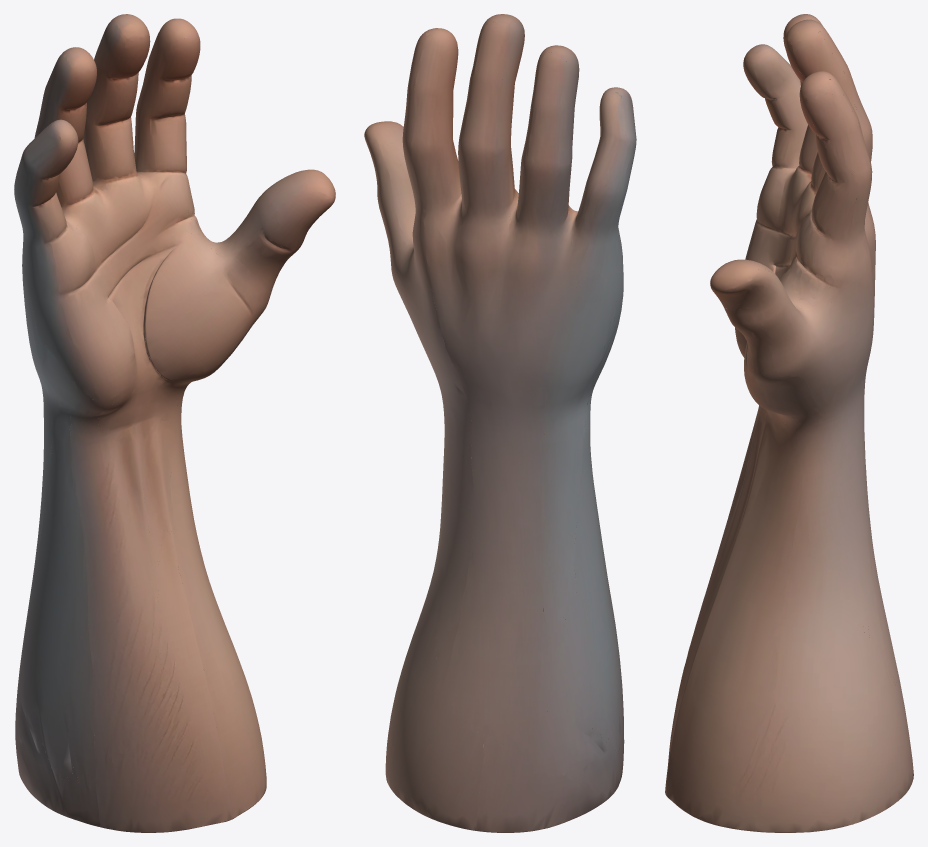
File: hand.glb
3 renders of one model, left to right at view 1: azimuth 30°, elevation 25°; view 2: azimuth 150°, elevation 25°; view 3: azimuth 270°, elevation 25°, orthographic.
Parts seen in each view (by area): view 1: Hand; view 2: Hand; view 3: Hand.
Boxes of the visible parts, x1,y1,x2,y2 form: Hand: (14, 14, 335, 832); Hand: (364, 14, 636, 832); Hand: (665, 14, 913, 832).
Size of the model in its own units: 0.4447 by 1.13 by 0.3379.
Materials: 1 (1 with a texture image).
